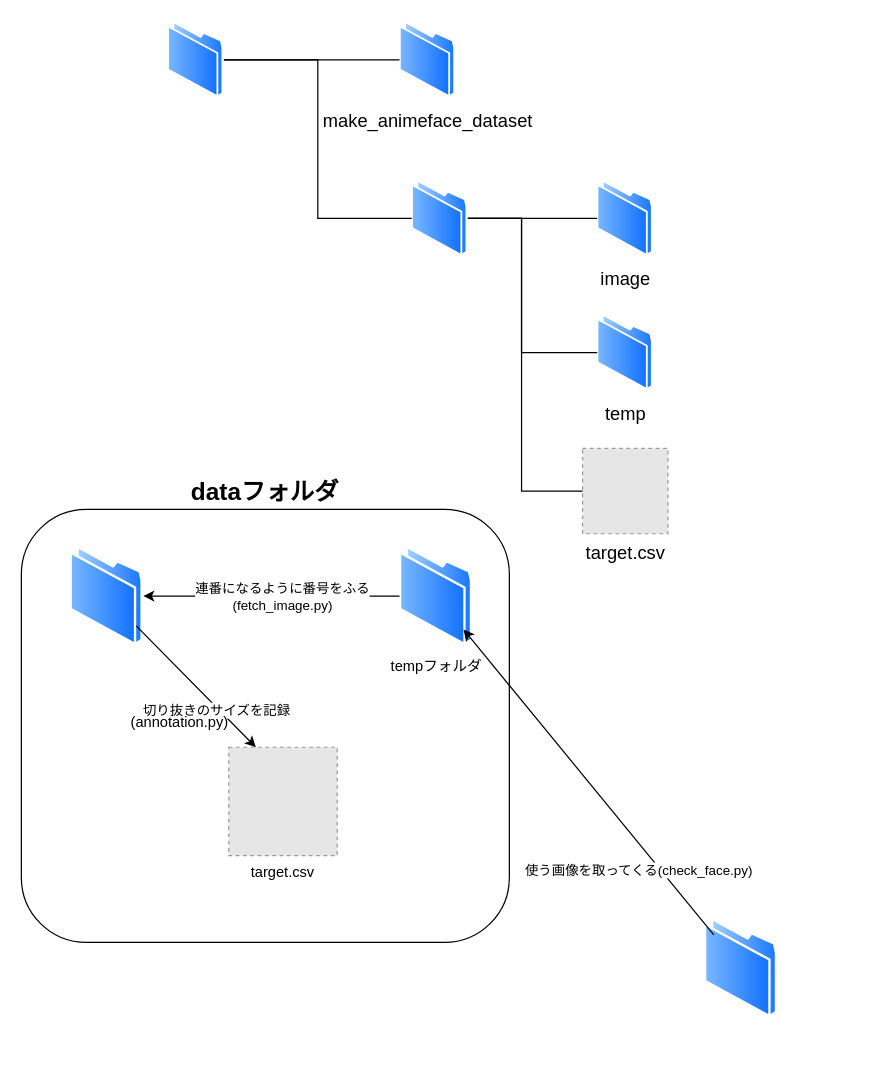
Some shapes in this 880 by 1069 pixel diagram are drawn without their labels. Grey dashed boxes stand in for pictures. The centre of each missing label's shape, as x and y in pixels:
"annotation" goes at [195,59].
"data" goes at [439,217].
"imageフォルダ" goes at [106,595].
"まだ整理されていない大量の画像群" goes at [740,967].
